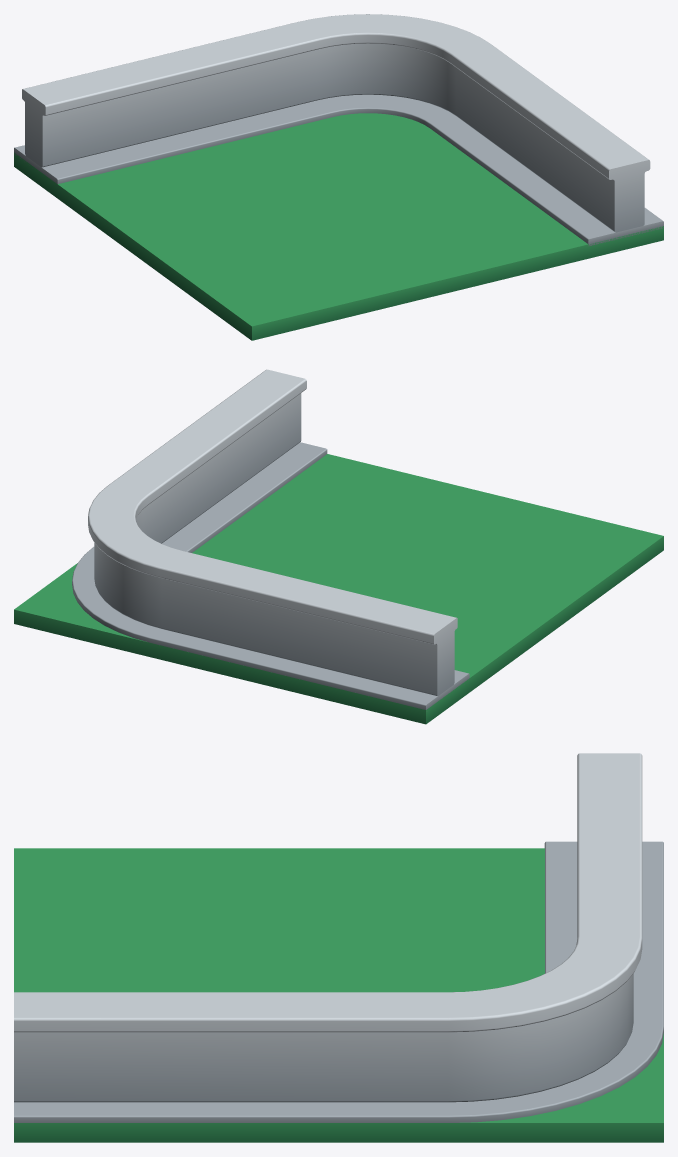
File: muro_esquina.glb
3 renders of one model, top to bottom at view 1: azimuth 30°, elevation 25°; view 2: azimuth 150°, elevation 25°; view 3: azimuth 270°, elevation 25°, orthographic. The views are drawn at different scales.
Parts seen in each view (by area): view 1: muro_esquina; view 2: muro_esquina; view 3: muro_esquina.
Boxes of the visible parts, <box> form: muro_esquina: <box>14,14,663,340</box>; muro_esquina: <box>14,369,663,724</box>; muro_esquina: <box>14,753,663,1142</box>.
Bounding box in the file's own units: 6 × 1.17 × 6.
Materials: 1 (1 with a texture image).
